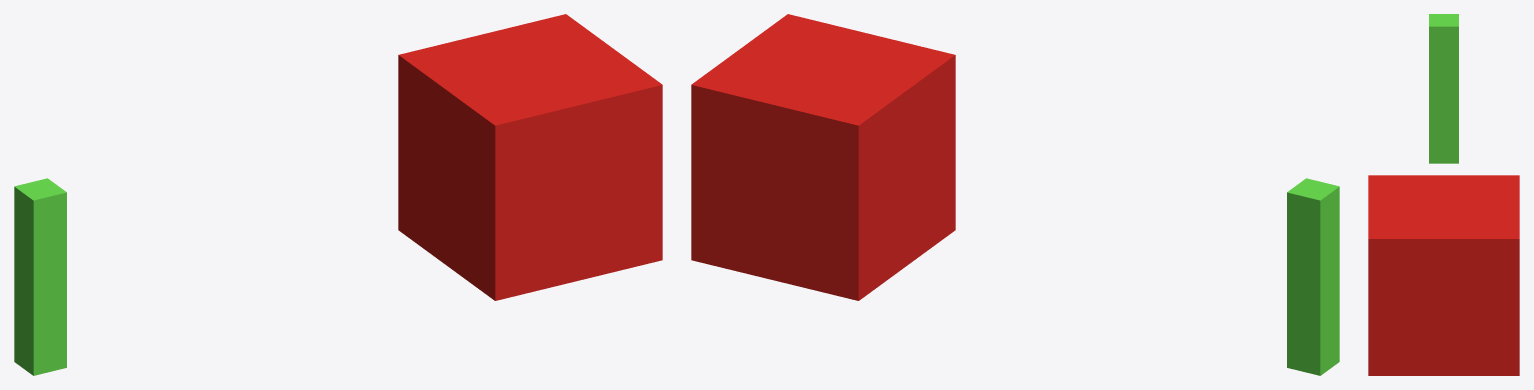
File: combined.glb
3 renders of one model, left to right at view 1: azimuth 30°, elevation 25°; view 2: azimuth 150°, elevation 25°; view 3: azimuth 270°, elevation 25°, orthographic. The views are drawn at different scales.
Visible parts, largest first — view 1: Cube, RodRot; view 2: Cube, RodRot; view 3: Cube, RodRot.
Part boxes in pixels (left/top/right/bottom): Cube: left=398, top=14, right=662, bottom=300; RodRot: left=14, top=178, right=66, bottom=375; Cube: left=691, top=14, right=955, bottom=300; RodRot: left=1287, top=178, right=1339, bottom=375; Cube: left=1368, top=175, right=1519, bottom=375; RodRot: left=1429, top=14, right=1458, bottom=163.
Size of the model in its own units: 7.05 by 2 by 2.
